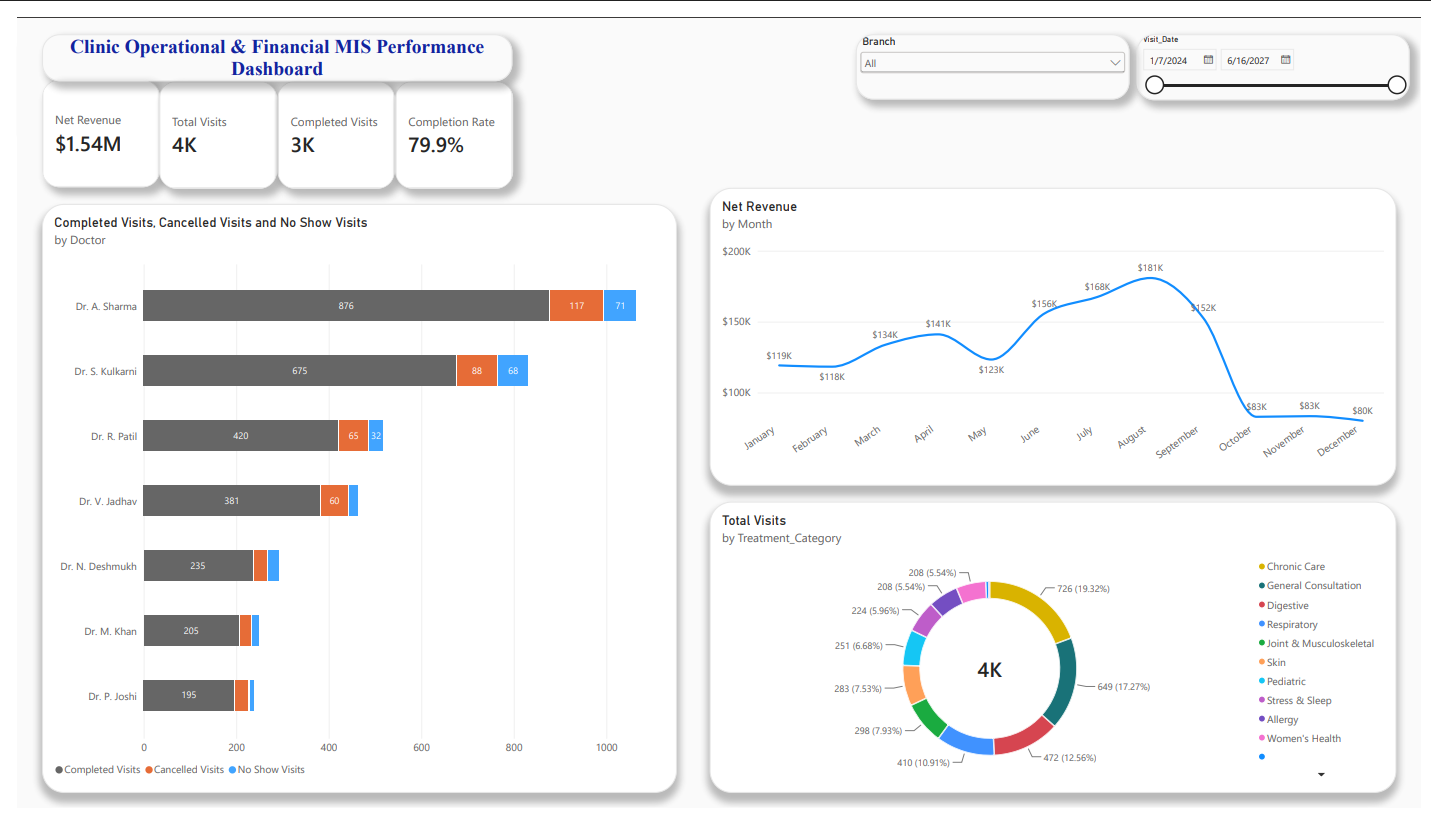

Layout of this report page (visuals, bound fields, positions):
{"tool":"powerbi","page":{"name":"Page 1","canvas":[1920,1080],"ordinal":0},"visuals":[{"type":"cardVisual","fields":{"Data":["_Measures.Net Revenue"]},"box":[35,85,160.6,147.2],"z":0},{"type":"cardVisual","fields":{"Data":["_Measures.Total Visits"]},"box":[195,86.7,160.6,147.2],"z":1},{"type":"cardVisual","fields":{"Data":["_Measures.Completed Visits"]},"box":[356.7,86.7,160.6,147.2],"z":2},{"type":"cardVisual","fields":{"Data":["_Measures.Completion Rate"]},"box":[518.3,86.7,160.6,147.2],"z":4},{"type":"lineChart","fields":{"Category":["clean_clinic_visits.Visit_Date.Variation.Date Hierarchy.Month"],"Y":["_Measures.Net Revenue"]},"box":[948.3,233.3,938.3,406.7],"z":5},{"type":"barChart","fields":{"Category":["clean_clinic_visits.Doctor"],"Y":["_Measures.Completed Visits","_Measures.Cancelled Visits","_Measures.No Show Visits"]},"box":[35,255,868.3,805],"z":6},{"type":"donutChart","fields":{"Category":["clean_clinic_visits.Treatment_Category"],"Y":["_Measures.Total Visits"]},"box":[948.3,661.7,938.3,398.3],"z":7},{"type":"slicer","fields":{"Values":["clean_clinic_visits.Branch"]},"box":[1148.3,23.3,373.2,88.9],"z":8},{"type":"slicer","fields":{"Values":["clean_clinic_visits.Visit_Date"]},"box":[1531.7,23.3,373.3,90],"z":9},{"type":"textbox","box":[35,23.3,643.3,63.3],"z":10}]}

Visuals, with their boxes in screenshot pixels (x1, y1, x2, y2), scaled from the page's 1920x1080 canvas onto the 1431x820 screenshot:
cardVisual - _Measures.Net Revenue: (left=26, top=65, right=146, bottom=176)
cardVisual - _Measures.Total Visits: (left=145, top=66, right=265, bottom=178)
cardVisual - _Measures.Completed Visits: (left=266, top=66, right=386, bottom=178)
cardVisual - _Measures.Completion Rate: (left=386, top=66, right=506, bottom=178)
lineChart - clean_clinic_visits.Visit_Date.Variation.Date Hierarchy.Month x _Measures.Net Revenue: (left=707, top=177, right=1406, bottom=486)
barChart - clean_clinic_visits.Doctor x _Measures.Completed Visits: (left=26, top=194, right=673, bottom=805)
donutChart - clean_clinic_visits.Treatment_Category x _Measures.Total Visits: (left=707, top=502, right=1406, bottom=805)
slicer - clean_clinic_visits.Branch: (left=856, top=18, right=1134, bottom=85)
slicer - clean_clinic_visits.Visit_Date: (left=1142, top=18, right=1420, bottom=86)
textbox: (left=26, top=18, right=506, bottom=66)
